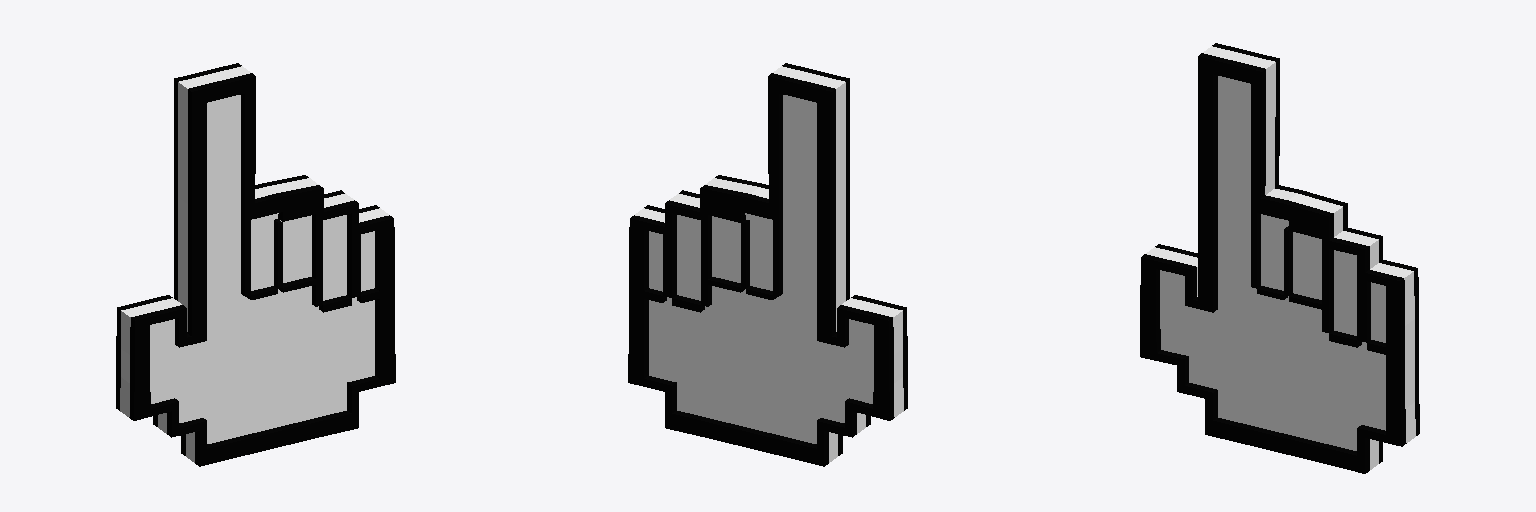
Rendered from Hand.obj.
3 renders of one model, left to right at view 1: azimuth 30°, elevation 25°; view 2: azimuth 150°, elevation 25°; view 3: azimuth 330°, elevation 25°, orthographic.
Parts seen in each view (by area): view 1: pCube3; view 2: pCube3; view 3: pCube3.
Boxes of the visible parts, x1=… form: pCube3: x1=116, y1=63, x2=395, y2=466; pCube3: x1=628, y1=63, x2=907, y2=466; pCube3: x1=1140, y1=43, x2=1419, y2=473.
Bounding box in the file's own units: 7.12 × 9.77 × 0.8544.